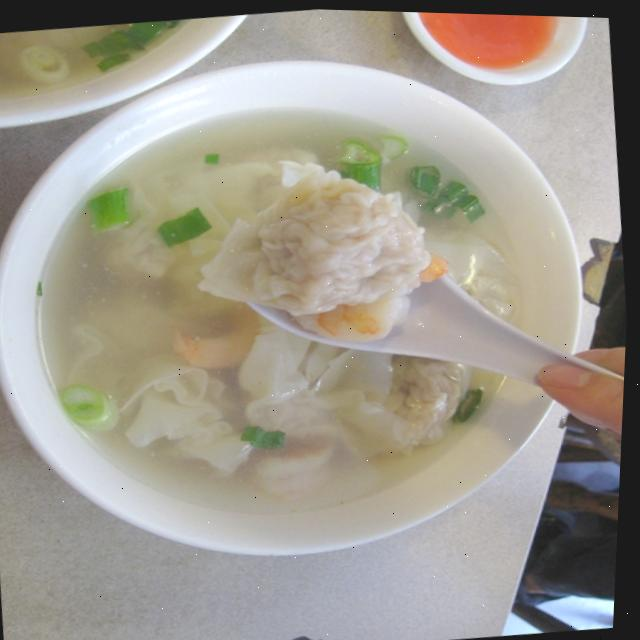汤锅炖物: (5, 44, 595, 575)
